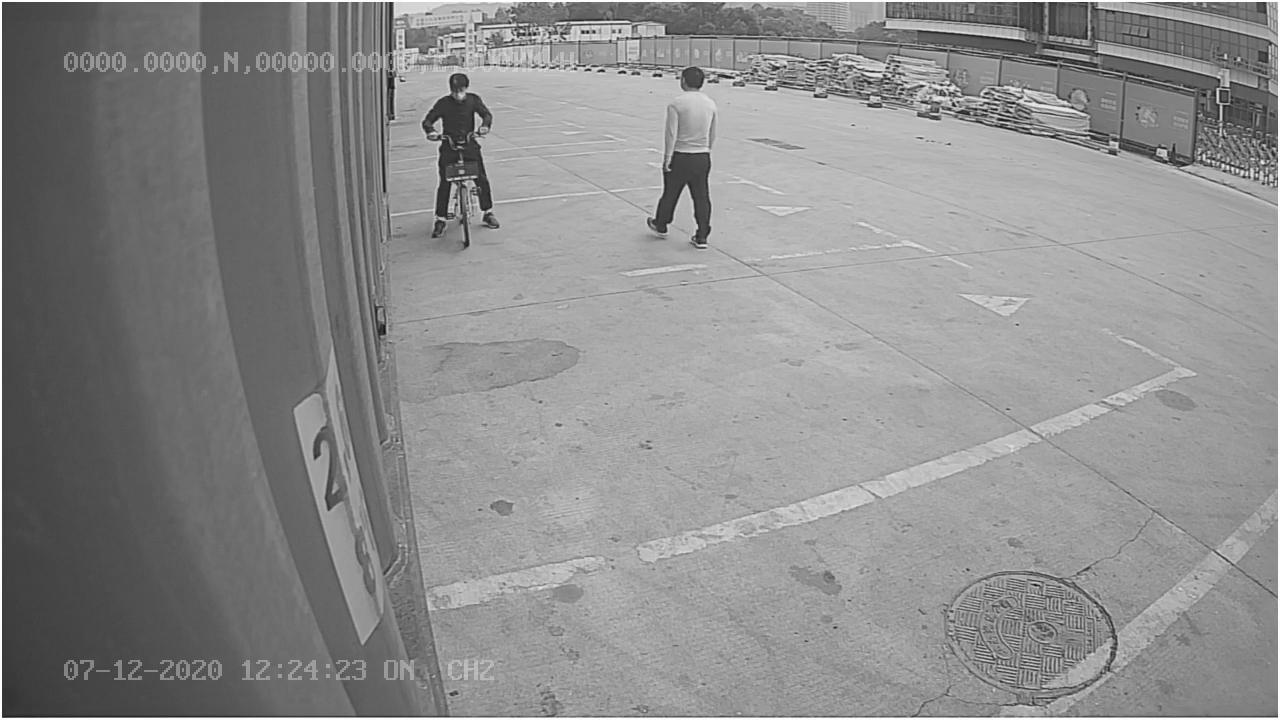person: (636, 64, 722, 249)
